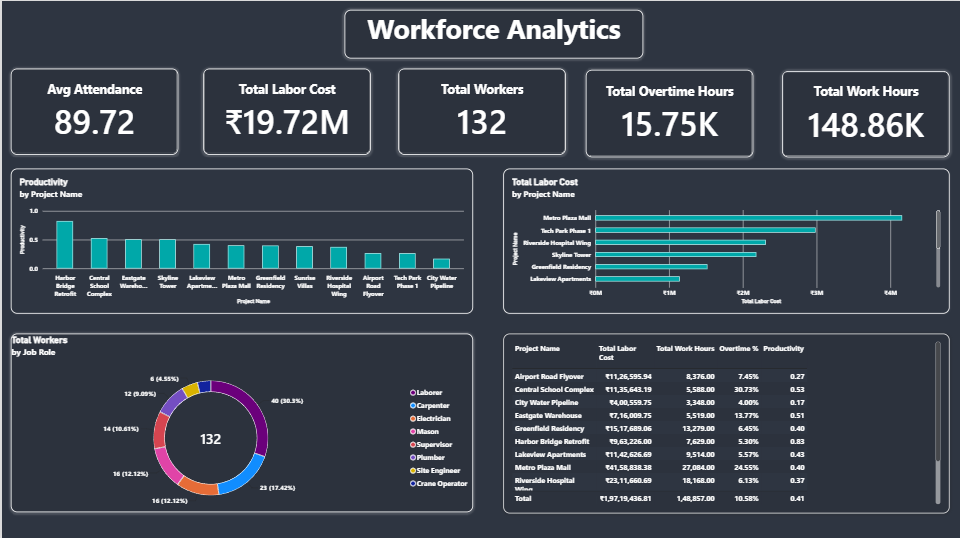

The dashboard page shown, as its layout file describes it:
{"tool":"powerbi","page":{"name":"Workforce Analytics","canvas":[1920,1080],"ordinal":2},"visuals":[{"type":"cardVisual","fields":{"Data":["_Measures.Total Workers"]},"box":[792.5,135,335,172.5],"z":0},{"type":"cardVisual","fields":{"Data":["_Measures.Total Work Hours"]},"box":[1560,140,335,172.5],"z":1000},{"type":"cardVisual","fields":{"Data":["_Measures.Total Overtime Hours"]},"box":[1167.5,137.5,335,175],"z":2000},{"type":"cardVisual","fields":{"Data":["_Measures.Total Labor Cost"]},"box":[402.5,135,335,172.5],"z":3000},{"type":"cardVisual","fields":{"Data":["_Measures.Avg Attendance"]},"box":[17.5,135,335,172.5],"z":4000},{"type":"clusteredBarChart","fields":{"Y":["_Measures.Total Labor Cost"],"Category":["Projects.Project Name"]},"box":[1002.5,335,892.5,290],"z":5000},{"type":"clusteredColumnChart","fields":{"Category":["Projects.Project Name"],"Y":["_Measures.Productivity"]},"box":[17.5,335,925,290],"z":6000},{"type":"donutChart","fields":{"Category":["Workers.Job Role"],"Y":["_Measures.Total Workers"]},"box":[17.5,665,925,357.5],"z":7000},{"type":"tableEx","fields":{"Values":["Projects.Project Name","_Measures.Total Labor Cost","_Measures.Total Work Hours","_Measures.Overtime %","_Measures.Productivity"]},"box":[1002.5,665,892.5,360],"z":8000},{"type":"textbox","box":[685,17.5,597.5,97.5],"z":8001}]}

Visuals, with their boxes in screenshot pixels (x1, y1, x2, y2), scaled from the page's 1920x1080 canvas onto the 960x538 screenshot:
cardVisual - _Measures.Total Workers: (396, 67, 564, 153)
cardVisual - _Measures.Total Work Hours: (780, 70, 948, 156)
cardVisual - _Measures.Total Overtime Hours: (584, 68, 751, 156)
cardVisual - _Measures.Total Labor Cost: (201, 67, 369, 153)
cardVisual - _Measures.Avg Attendance: (9, 67, 176, 153)
clusteredBarChart - _Measures.Total Labor Cost x Projects.Project Name: (501, 167, 948, 311)
clusteredColumnChart - Projects.Project Name x _Measures.Productivity: (9, 167, 471, 311)
donutChart - Workers.Job Role x _Measures.Total Workers: (9, 331, 471, 509)
tableEx - Projects.Project Name x _Measures.Total Labor Cost: (501, 331, 948, 511)
textbox: (342, 9, 641, 57)
